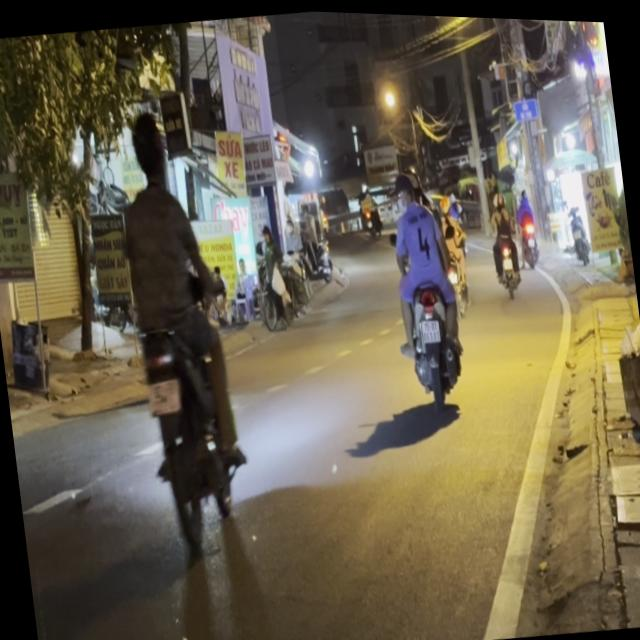licenseplate: (100, 97, 252, 523), (375, 156, 470, 407)
motorcyclist: (124, 106, 170, 186), (390, 165, 414, 206)
nohelmet: (144, 374, 179, 412), (418, 314, 439, 338)
